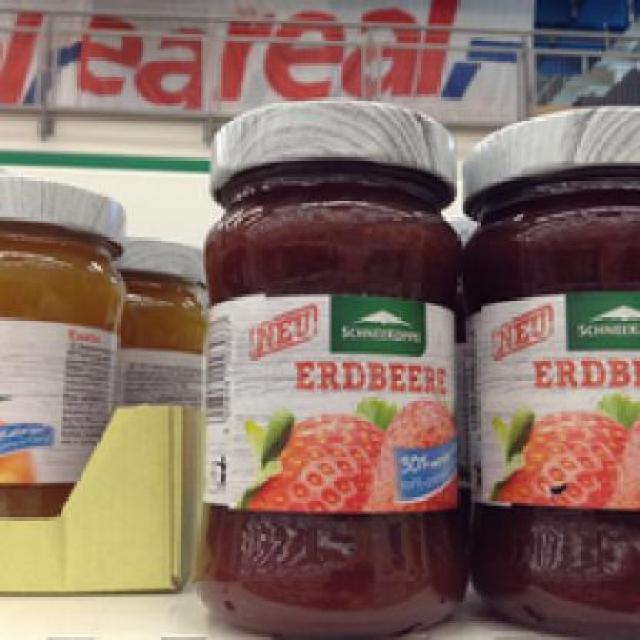Jam: (203, 97, 463, 632), (460, 102, 634, 638), (0, 169, 117, 520)
